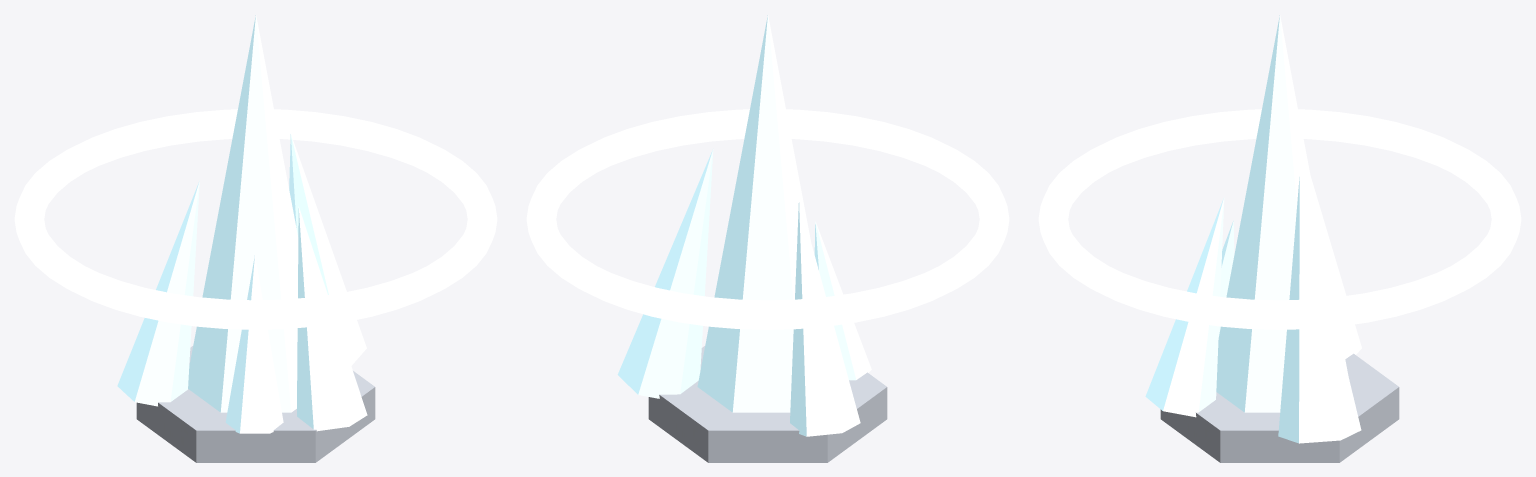
Rendered from relic_6.glb.
3 renders of one model, left to right at view 1: azimuth 30°, elevation 25°; view 2: azimuth 150°, elevation 25°; view 3: azimuth 270°, elevation 25°, orthographic.
Visible parts, largest first — view 1: Cone; view 2: Cone; view 3: Cone.
Part boxes in pixels (x1,y1,x2,y2): Cone: [14, 15, 497, 462]; Cone: [526, 15, 1009, 462]; Cone: [1038, 15, 1521, 462].
Size of the model in its own units: 1.1 by 1.02 by 1.1.
